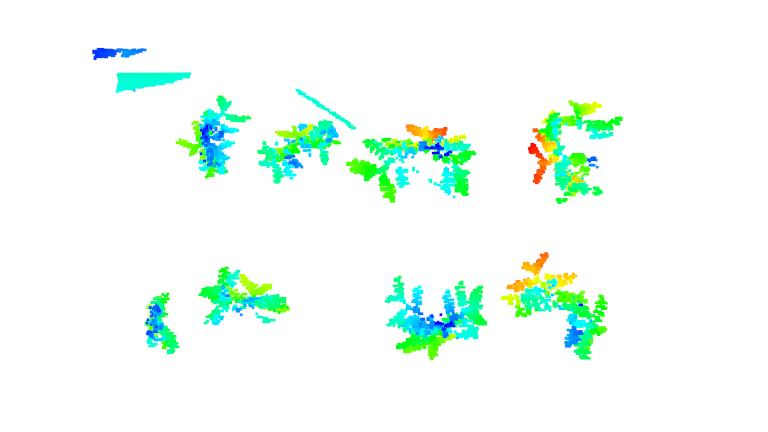chickpea: (502, 252, 613, 363), (340, 119, 473, 207), (373, 270, 492, 365), (524, 98, 622, 203), (170, 93, 252, 186), (253, 109, 345, 190), (195, 266, 291, 330), (137, 287, 183, 360)
